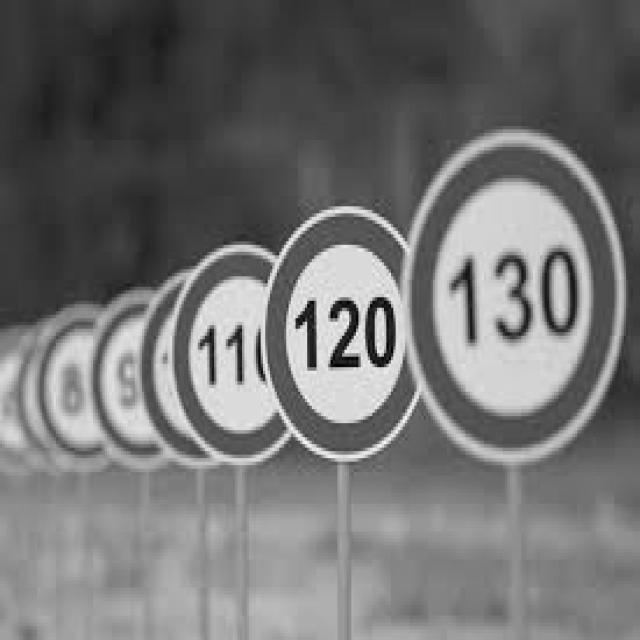speed_110: (172, 244, 292, 464)
speed_130: (408, 130, 626, 465)
